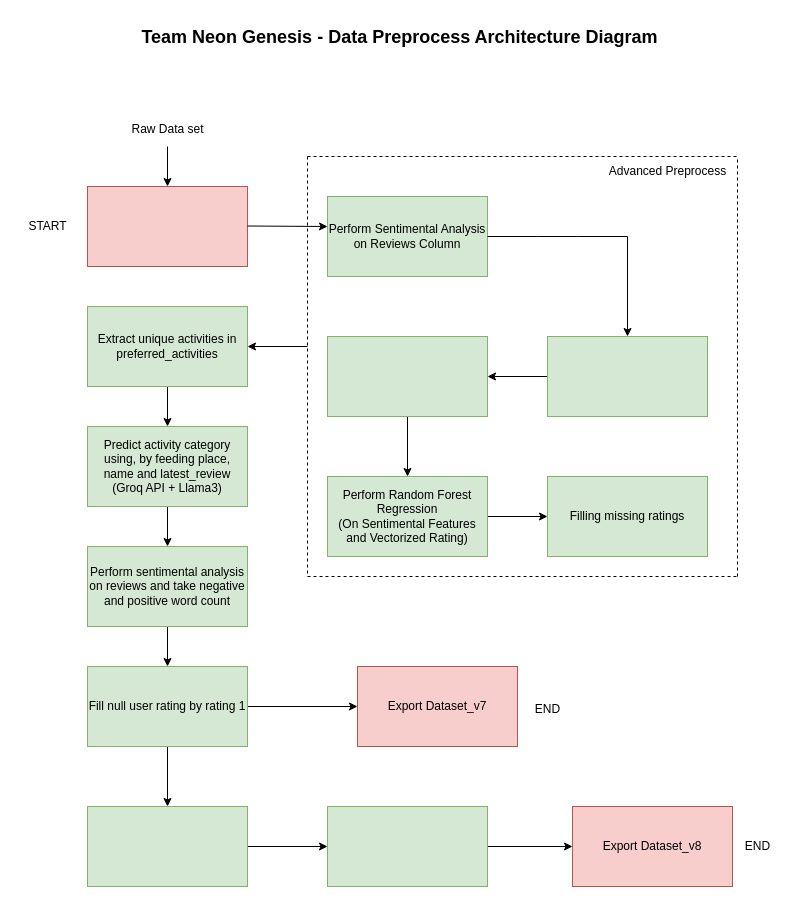
The diagram is 799 pixels wide and 904 high, and some of its shapes have lost their labels. The shapes that lost their labels are listed below. From the top down, each one's centre as x and y in pixels, then its label:
point 167,226: Initial Data Preprocessing (Remove ASCII characters and Special characters)
point 407,376: Vectorizing
point 627,376: Extract Sentimental Features
point 167,846: Extract unique destinations on bucket_list
point 407,846: Remove non-unique bucket list values from preprocessed dataset
